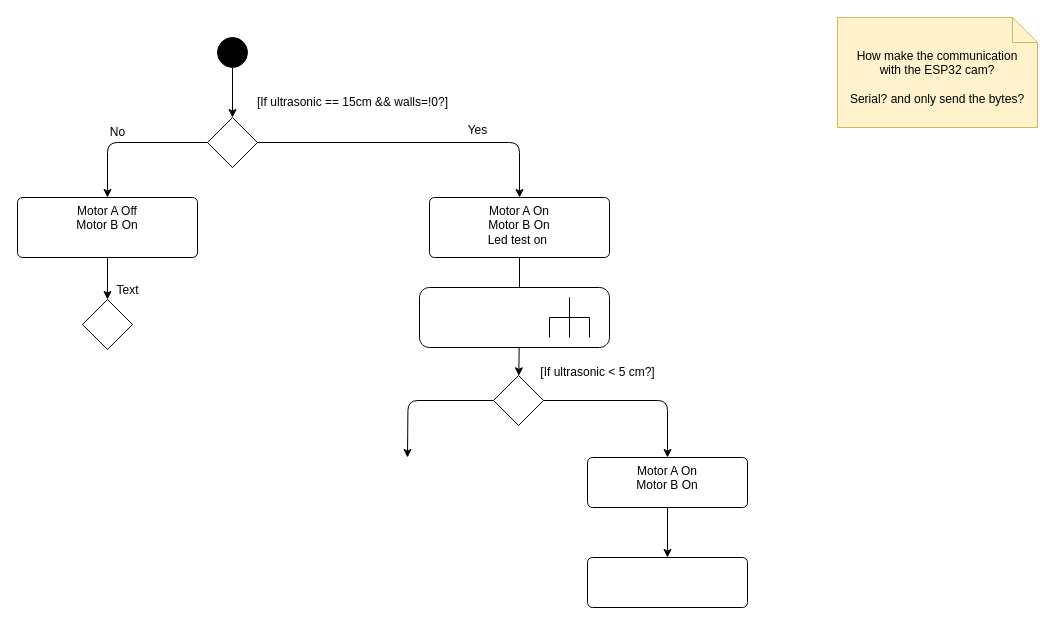
Some shapes in this 1055 by 625 pixel diagram are drawn without their labels. Each missing label, with the box of its shape:
Adjust the PID?: (586, 556, 748, 608)
Subsystem subction: (418, 286, 610, 348)
